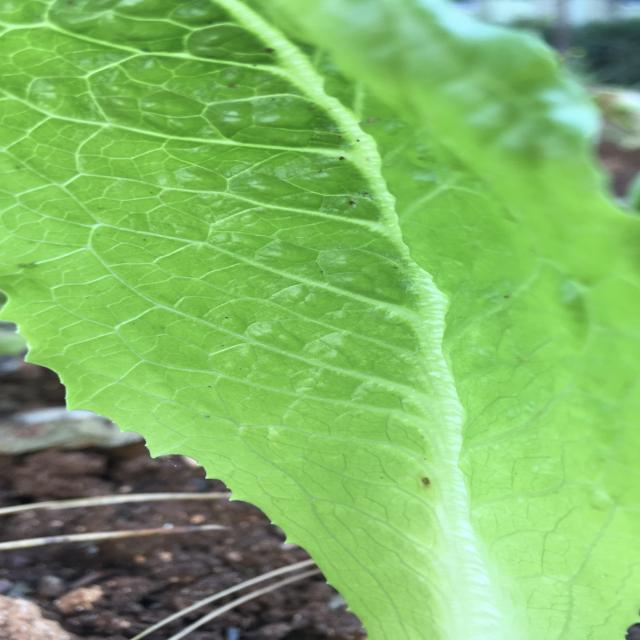Healthy Lettuce: (4, 2, 635, 636)
